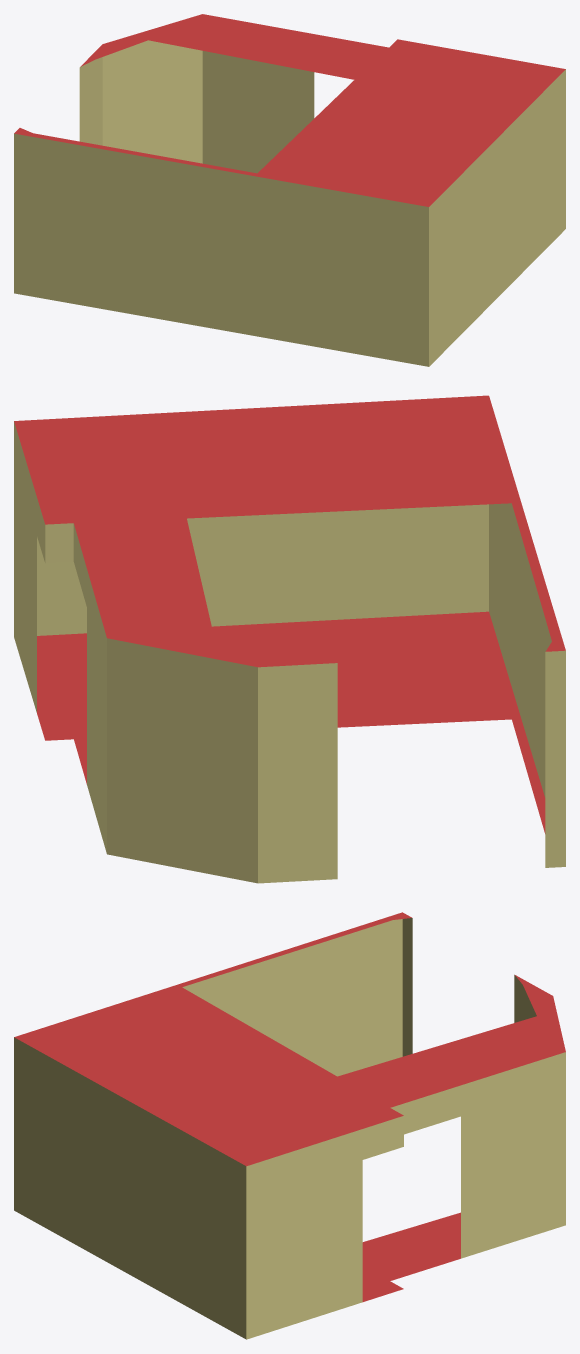
The picture shows the model from 3 angles, top to bottom: view 1: azimuth 30°, elevation 25°; view 2: azimuth 150°, elevation 25°; view 3: azimuth 270°, elevation 25°; orthographic projection. The views are drawn at different scales.
Parts seen in each view (by area): view 1: group_4, group_3; view 2: group_4, group_3, group_5; view 3: group_4, group_3, group_5.
Boxes of the visible parts, x1,y1,x2,y2 form: group_4: (14, 40, 565, 366); group_3: (14, 14, 565, 206); group_4: (14, 422, 565, 883); group_3: (14, 395, 565, 667); group_5: (37, 611, 545, 833); group_4: (14, 918, 565, 1339); group_3: (14, 912, 565, 1166); group_5: (362, 1212, 460, 1301).
Bounding box in the file's own units: 22.98 × 21.1 × 7.31.
